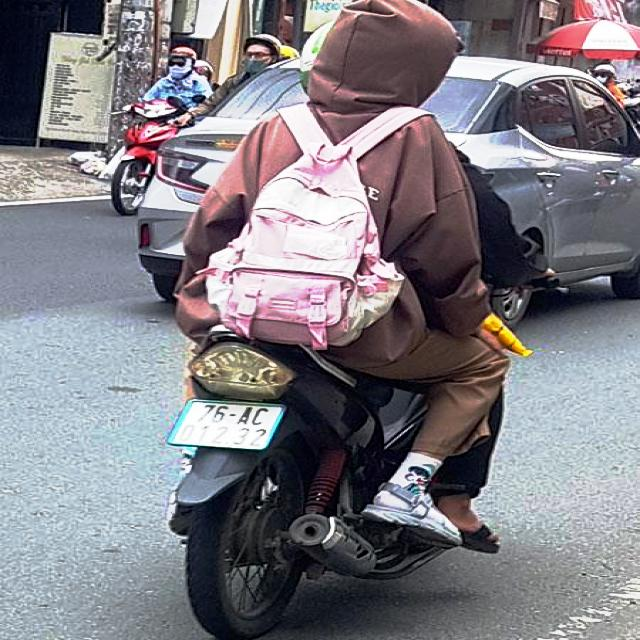license_plate: (171, 402, 284, 451)
